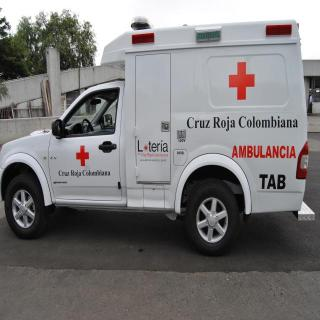Ambulance: (0, 12, 320, 258)
